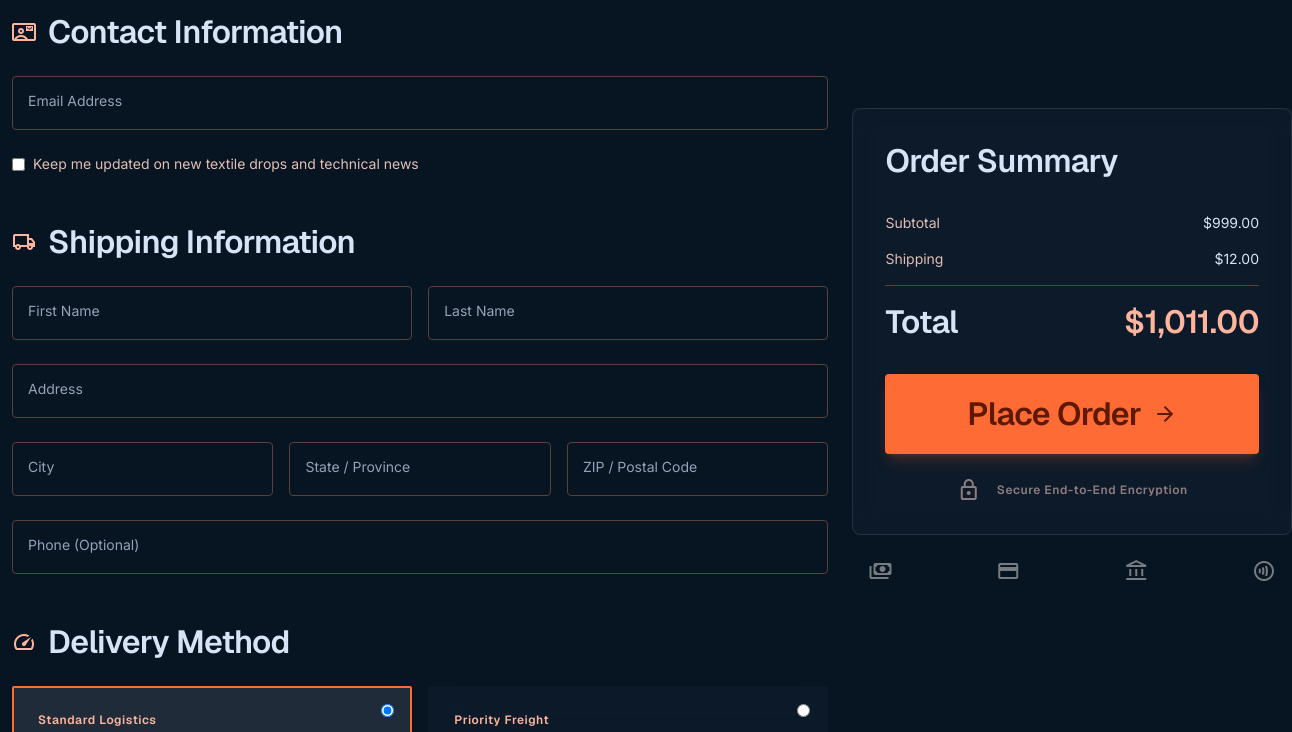
Test case: CheckoutPage — Order Summary pricing › updates Total when express shipping is selected
The image size is (1292, 732).
Check: the text with test id "summary-subtotal" reads "$999.00", box [1203,214,1259,231]
# Select express shipping
Click the radio button showing "express" at (804, 710), box [797,704,810,717]
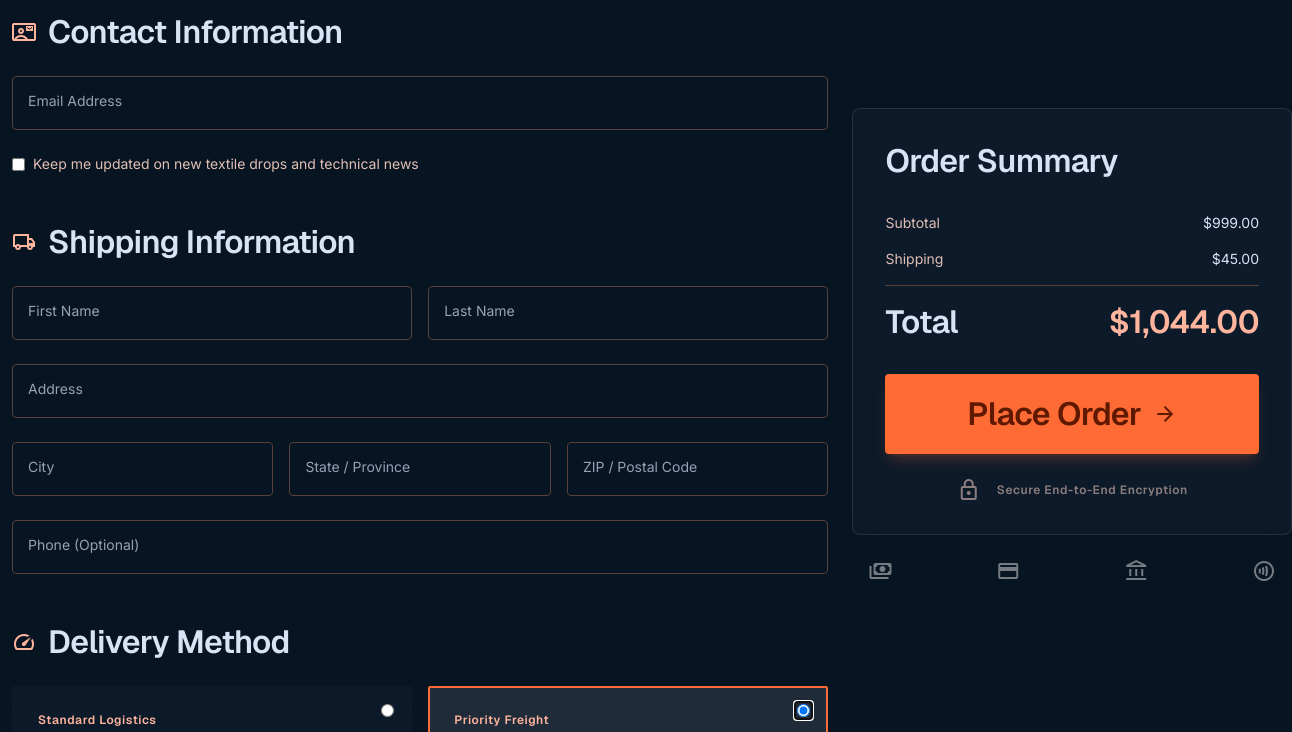
Check: the text with test id "summary-shipping" reads "$45.00", box [1212,250,1259,267]
Check: the text with test id "summary-total" reads "$1,044.00", box [1109,301,1259,342]
